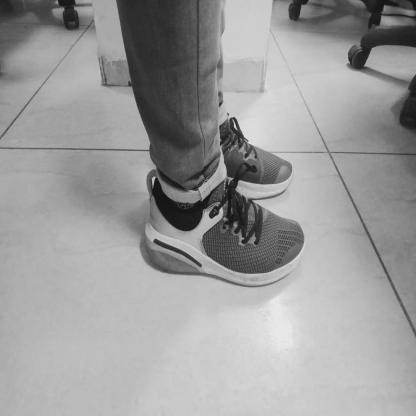ankle: (187, 198, 189, 202)
heel: (147, 231, 152, 236)
left_foot: (145, 179, 306, 288)
pinky: (274, 260, 277, 266)
toe: (286, 223, 290, 228)
